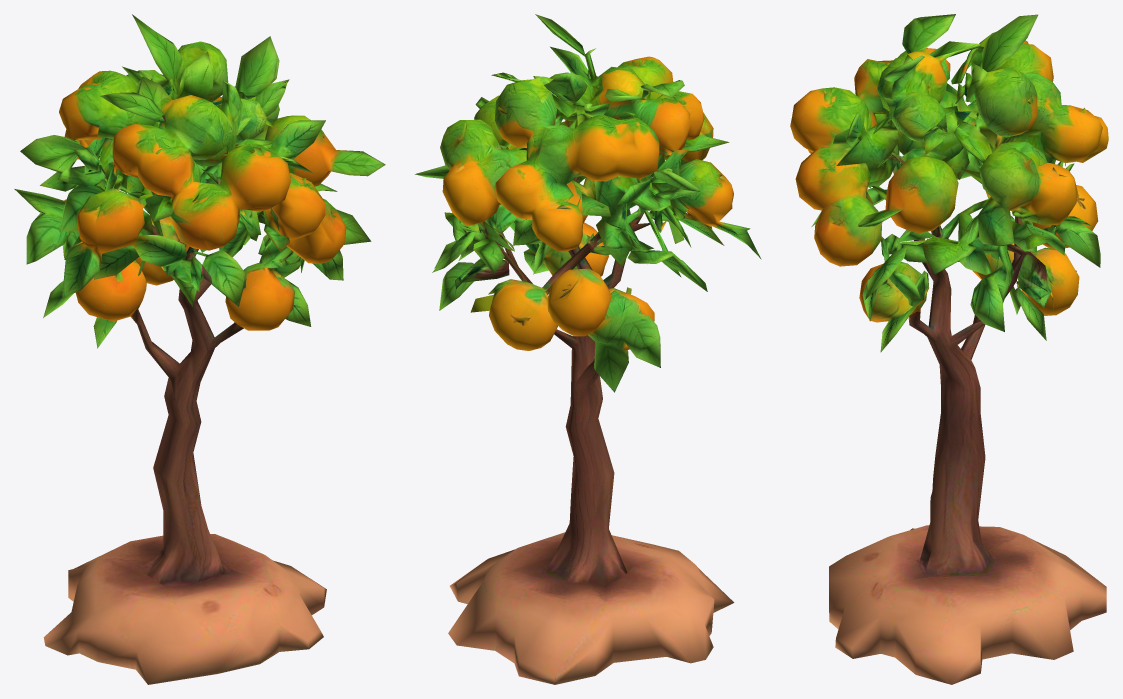
File: orange.glb
The picture shows the model from 3 angles, left to right: view 1: azimuth 30°, elevation 25°; view 2: azimuth 150°, elevation 25°; view 3: azimuth 270°, elevation 25°; orthographic projection. The views are drawn at different scales.
Size of the model in its own units: 1.04 by 1.91 by 0.9272.
Materials: 1 (1 with a texture image).
